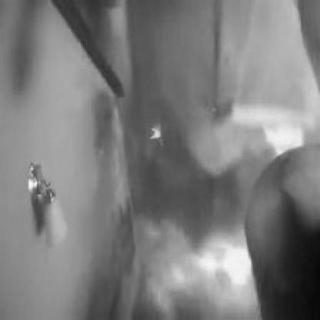Fire: (139, 234, 261, 310), (266, 121, 306, 163), (143, 126, 169, 144)
